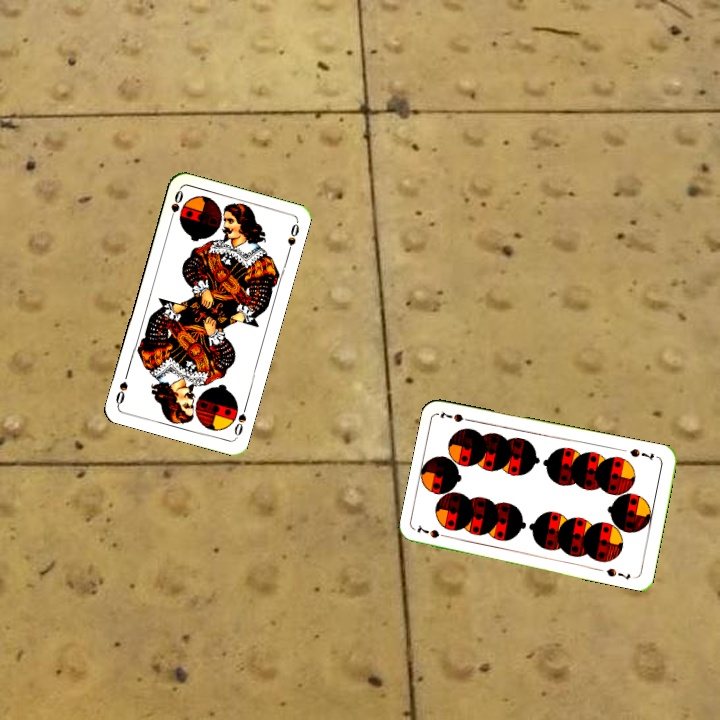S7: (413, 522, 453, 541), (626, 445, 656, 463)
SO: (166, 186, 186, 226), (230, 400, 250, 440)
